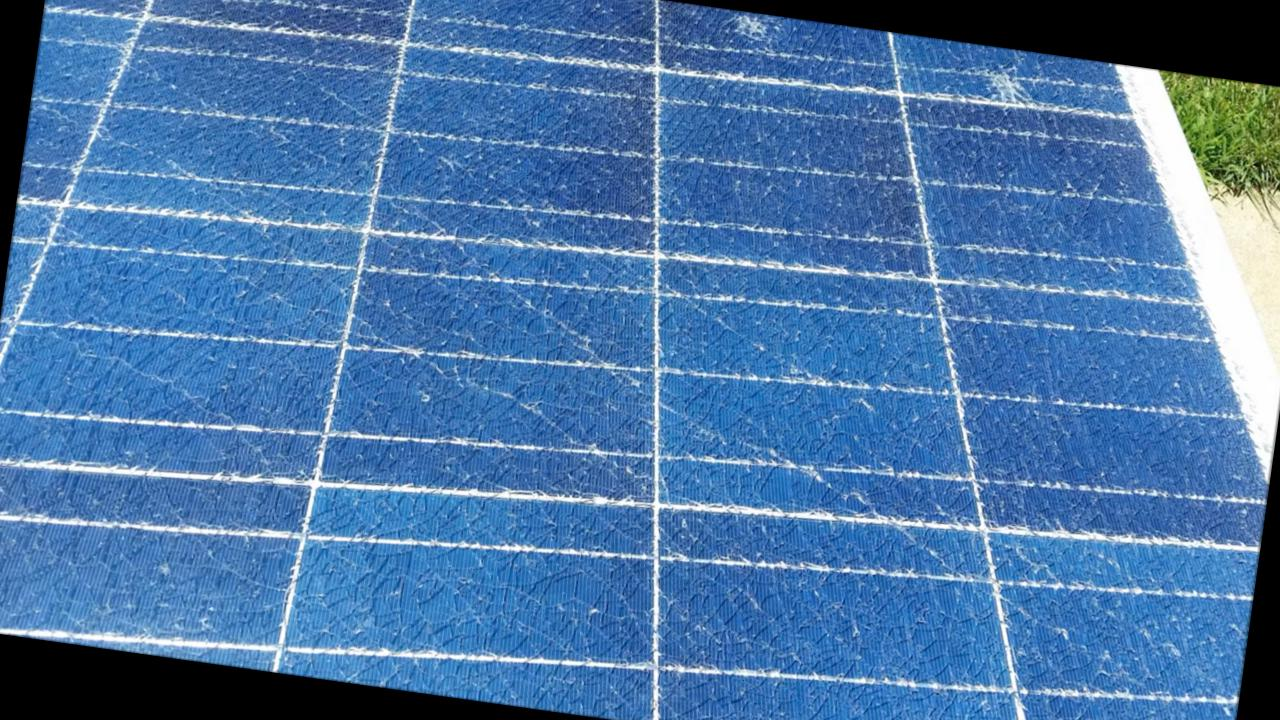Crack: (963, 46, 1055, 127), (691, 4, 794, 61)
